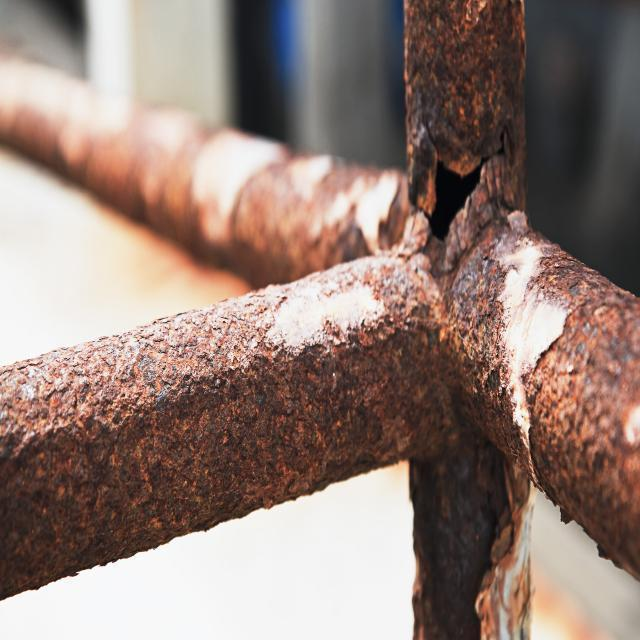Corrosion: (0, 0, 639, 638), (0, 246, 459, 602), (0, 42, 414, 288)
